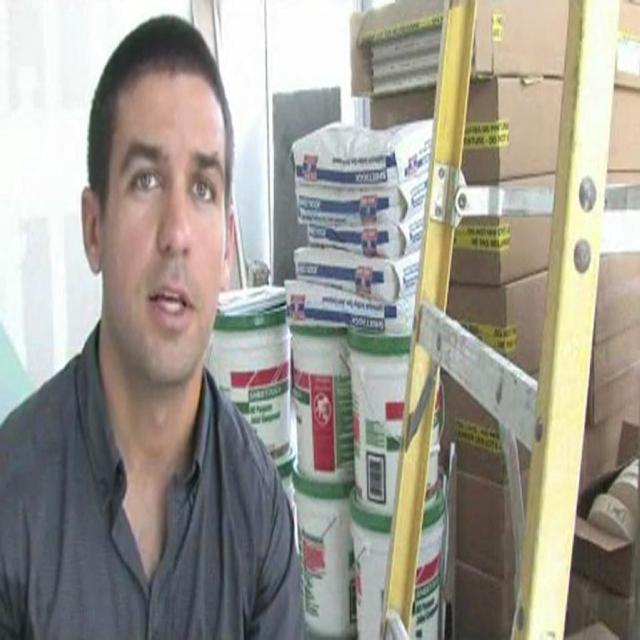Face: (102, 44, 234, 398)
